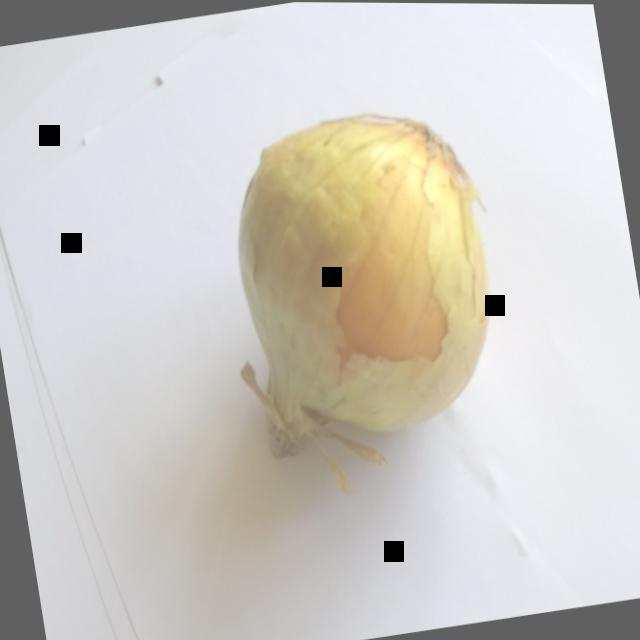Onion: (183, 72, 541, 525)
